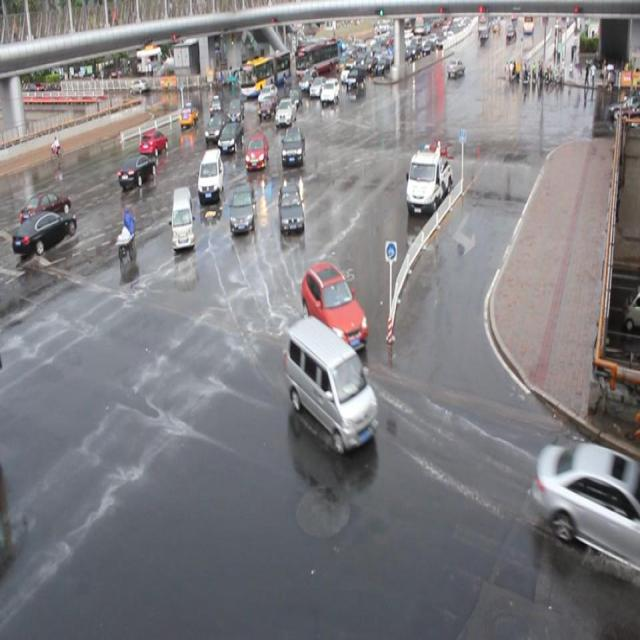bus: (404, 146, 452, 214)
car: (531, 441, 640, 569), (301, 260, 368, 352), (12, 210, 78, 253), (20, 188, 72, 226), (277, 180, 304, 232), (117, 153, 157, 186), (230, 182, 256, 232), (280, 125, 305, 163), (245, 133, 269, 167), (139, 128, 169, 155), (218, 121, 244, 150), (205, 112, 232, 138), (274, 98, 296, 125), (320, 79, 340, 104), (226, 98, 245, 122), (179, 103, 198, 126), (257, 96, 278, 116), (258, 84, 278, 102), (309, 76, 327, 96), (209, 95, 223, 115), (287, 86, 301, 106)
truck: (283, 314, 378, 450), (170, 186, 196, 249), (197, 147, 224, 201)
